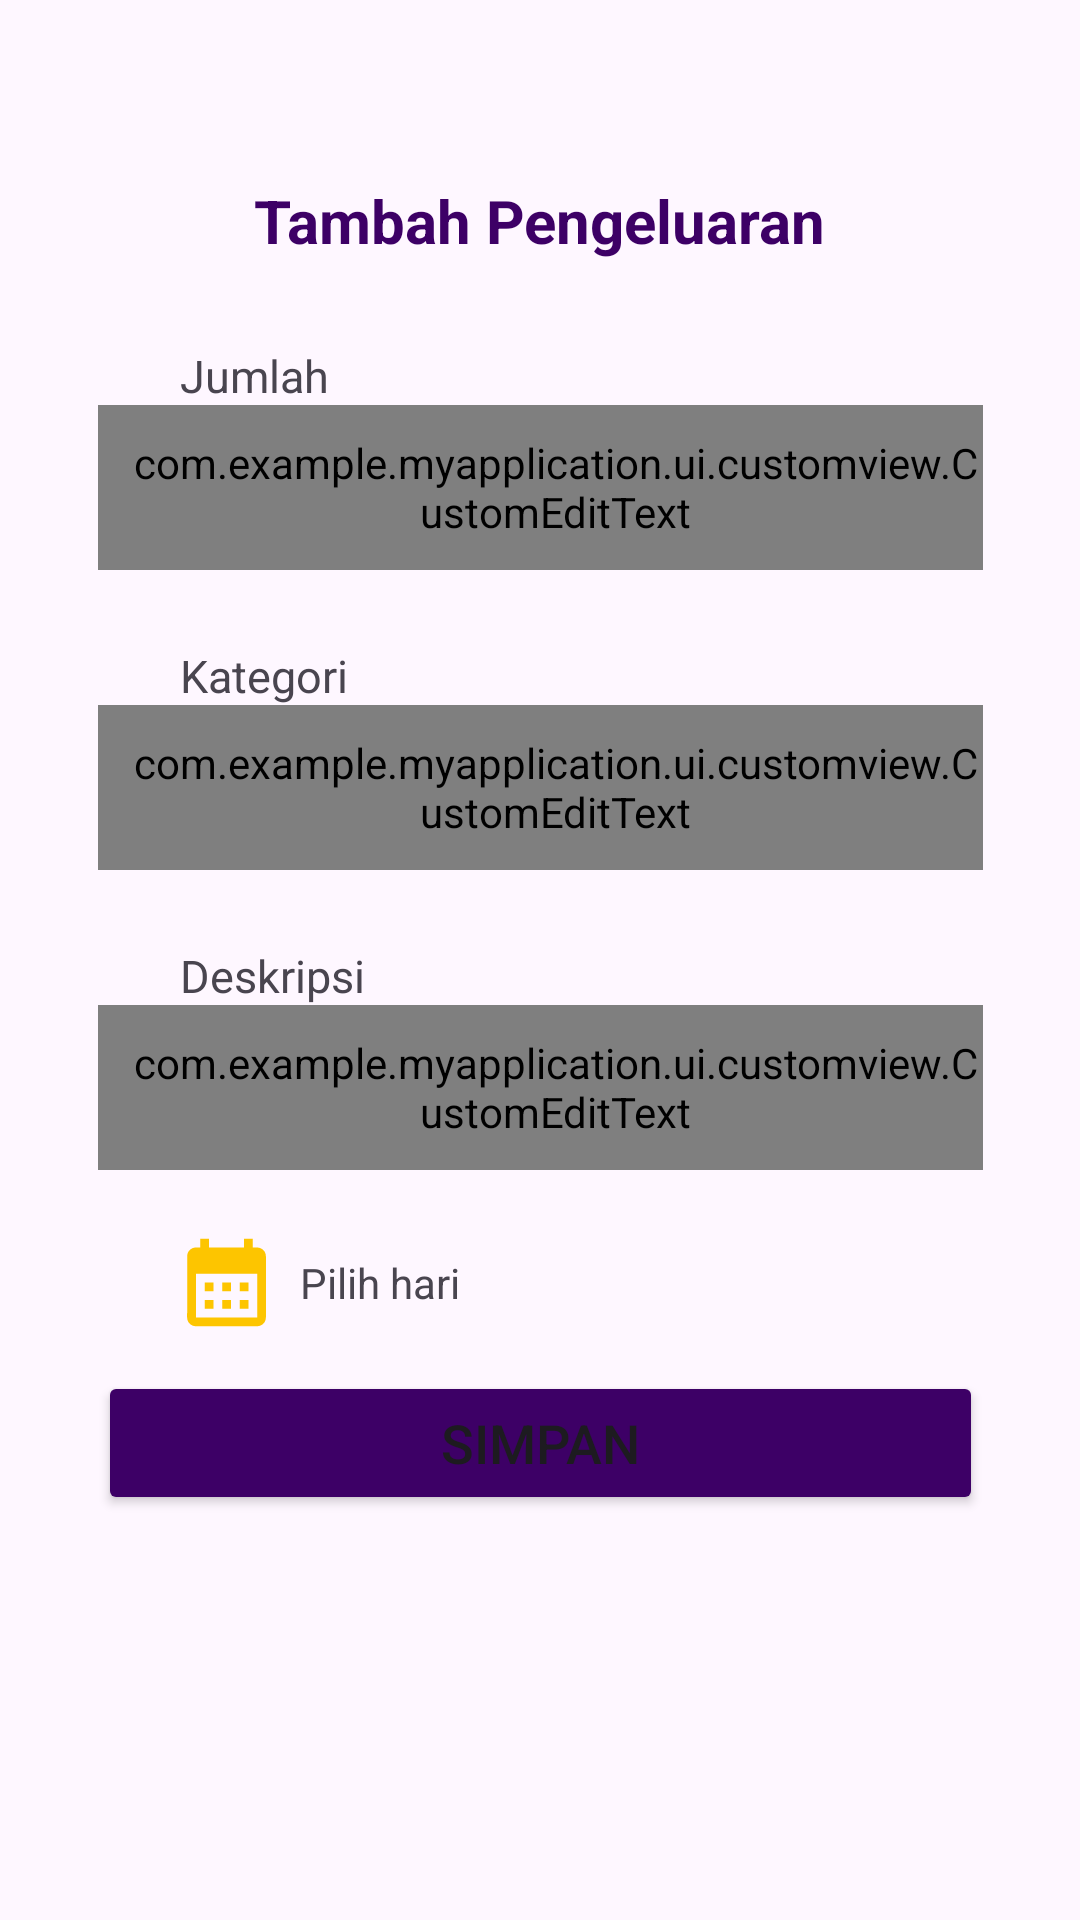

Locate icon controls on the screen. Image size 1080 x 1920, boxes as (x1, y1, x2, y2).
calendar month: (187, 1238, 266, 1327)
